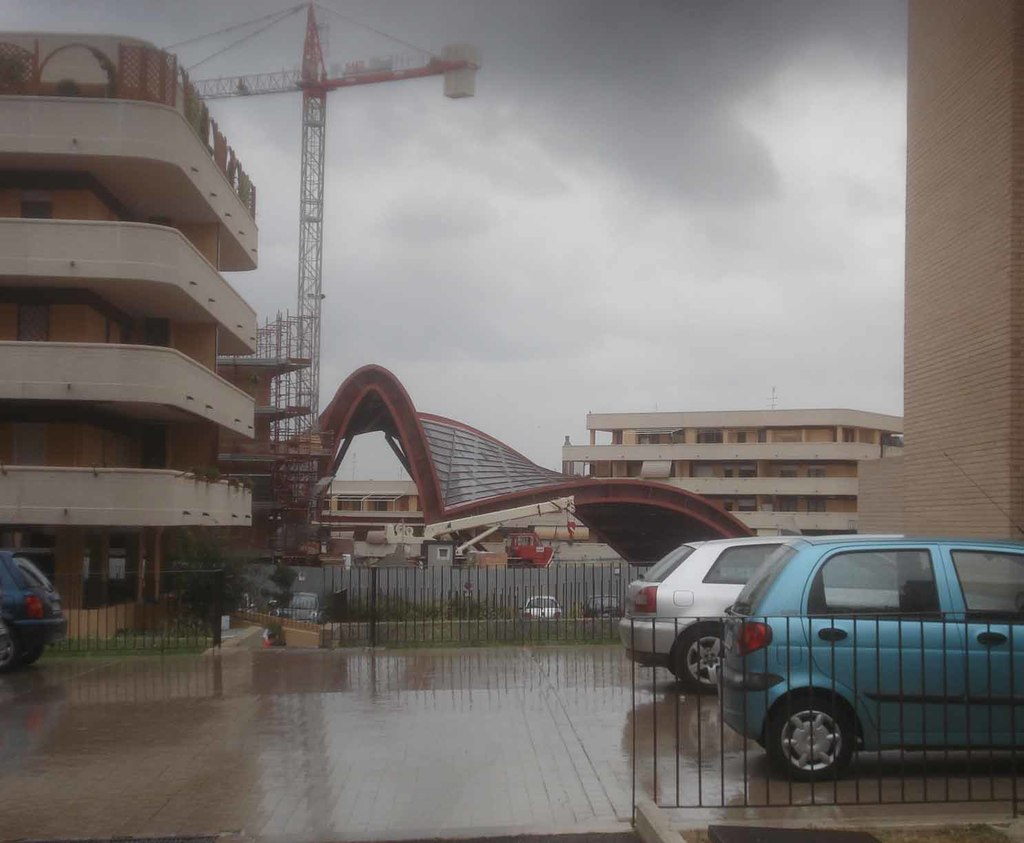cars: (717, 443, 1023, 780), (616, 537, 1023, 696), (0, 548, 41, 672), (25, 556, 62, 647), (285, 594, 329, 623), (582, 596, 626, 620), (522, 596, 565, 620)
